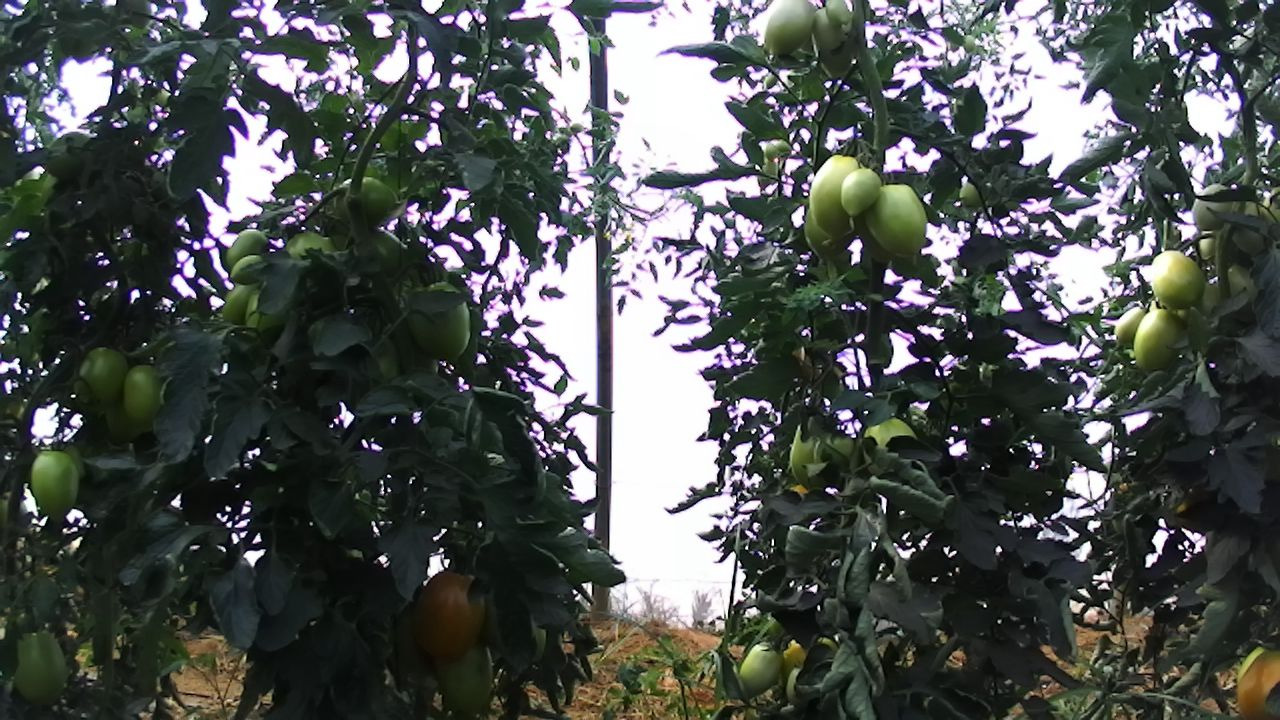tomato: (407, 565, 489, 665), (403, 275, 477, 368), (430, 630, 499, 719), (804, 152, 867, 240), (9, 626, 69, 710), (864, 182, 929, 259), (26, 447, 83, 525), (1144, 245, 1208, 313), (1229, 635, 1280, 720), (70, 345, 132, 414), (1131, 307, 1185, 379), (761, 0, 819, 58), (737, 639, 784, 702), (121, 360, 165, 426), (835, 166, 887, 220), (219, 224, 270, 271), (224, 251, 267, 288), (824, 0, 852, 27)
